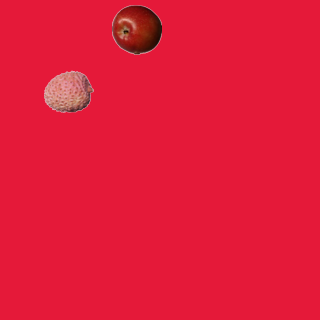Apple Braeburn: (111, 4, 161, 54)
Lychee: (43, 66, 93, 116)
